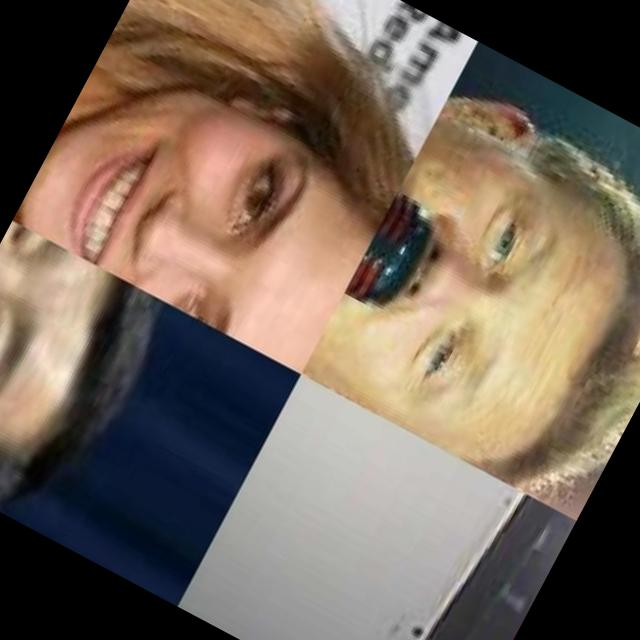bareface: (15, 41, 375, 362)
